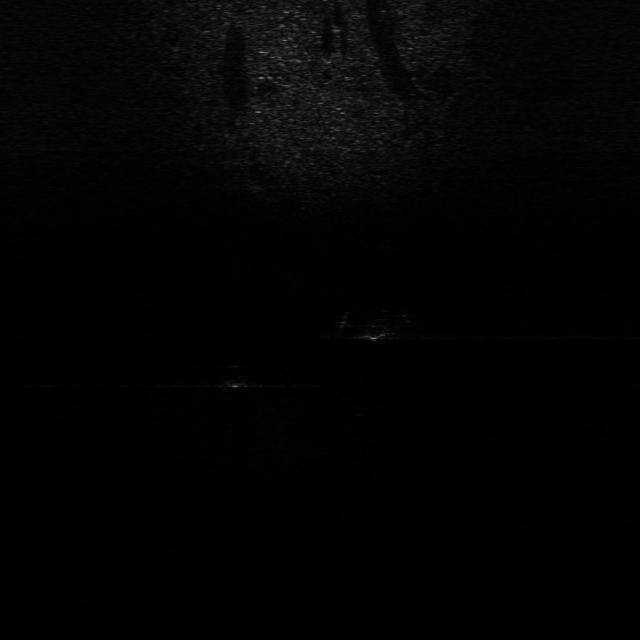ball: (218, 359, 252, 390)
human body: (328, 307, 419, 344)
